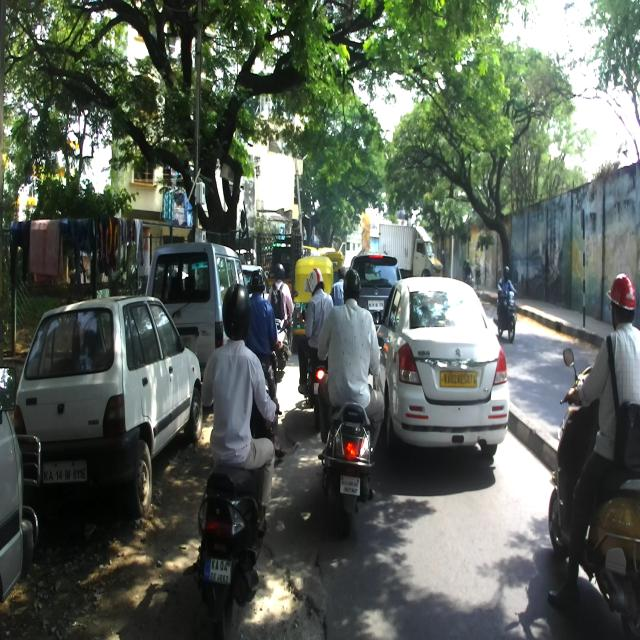car ahead at: (27, 293, 200, 520), (382, 273, 512, 464)
motorcycle ahead at: (193, 468, 261, 640), (319, 404, 375, 526)
